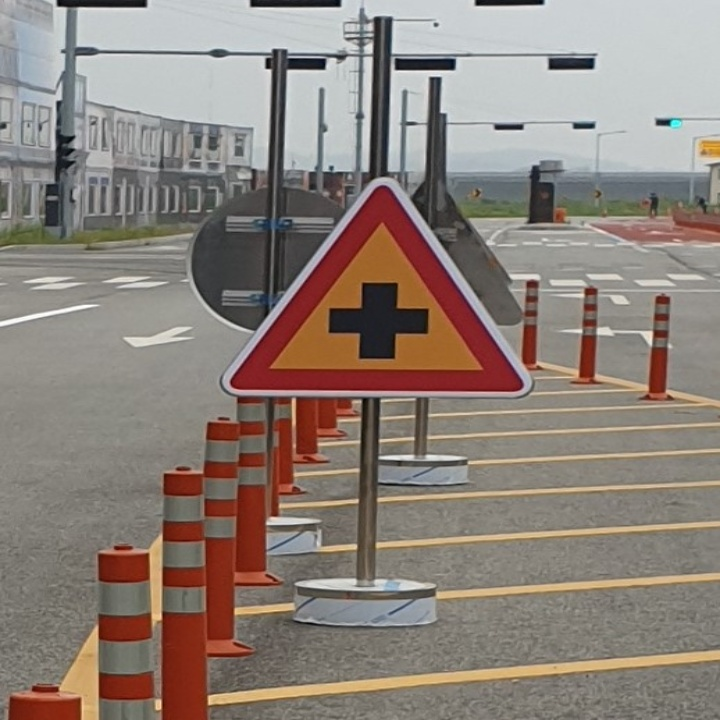inter: (318, 274, 436, 368)
